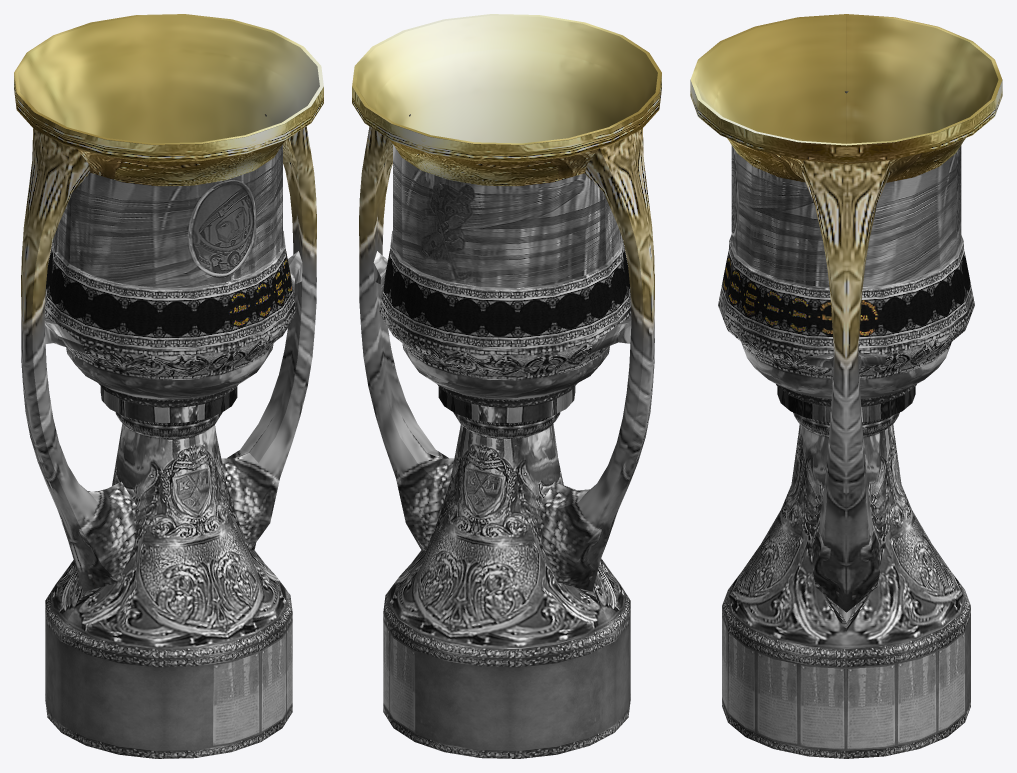
File: Gagarin Cup.FBX
3 views of the same model, side by side, from view 1: azimuth 30°, elevation 25°; view 2: azimuth 150°, elevation 25°; view 3: azimuth 270°, elevation 25° (orthographic).
Visible parts, largest first — view 1: Gagarin Cup; view 2: Gagarin Cup; view 3: Gagarin Cup.
Part boxes in pixels (x1,y1,x2,y2): Gagarin Cup: (14, 14, 323, 758); Gagarin Cup: (352, 14, 661, 758); Gagarin Cup: (690, 14, 1002, 758).
Bounding box in the file's own units: 22.52 × 46.06 × 20.78.
